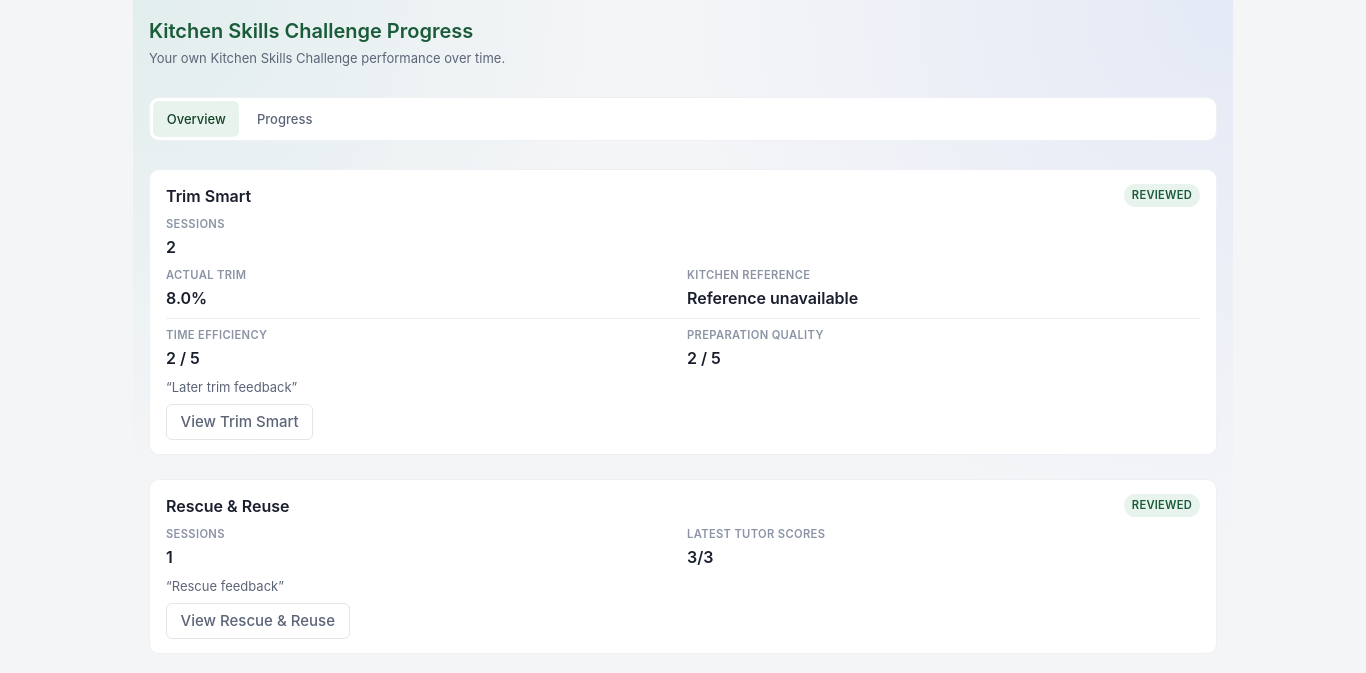
Test: Kitchen Day page split › keeps module tutor assessments and charts isolated under Progress tabs
Click the tab with test id "kitchen-day-progress-tab-progress". click: (285, 119)
box: [243,101,326,137]
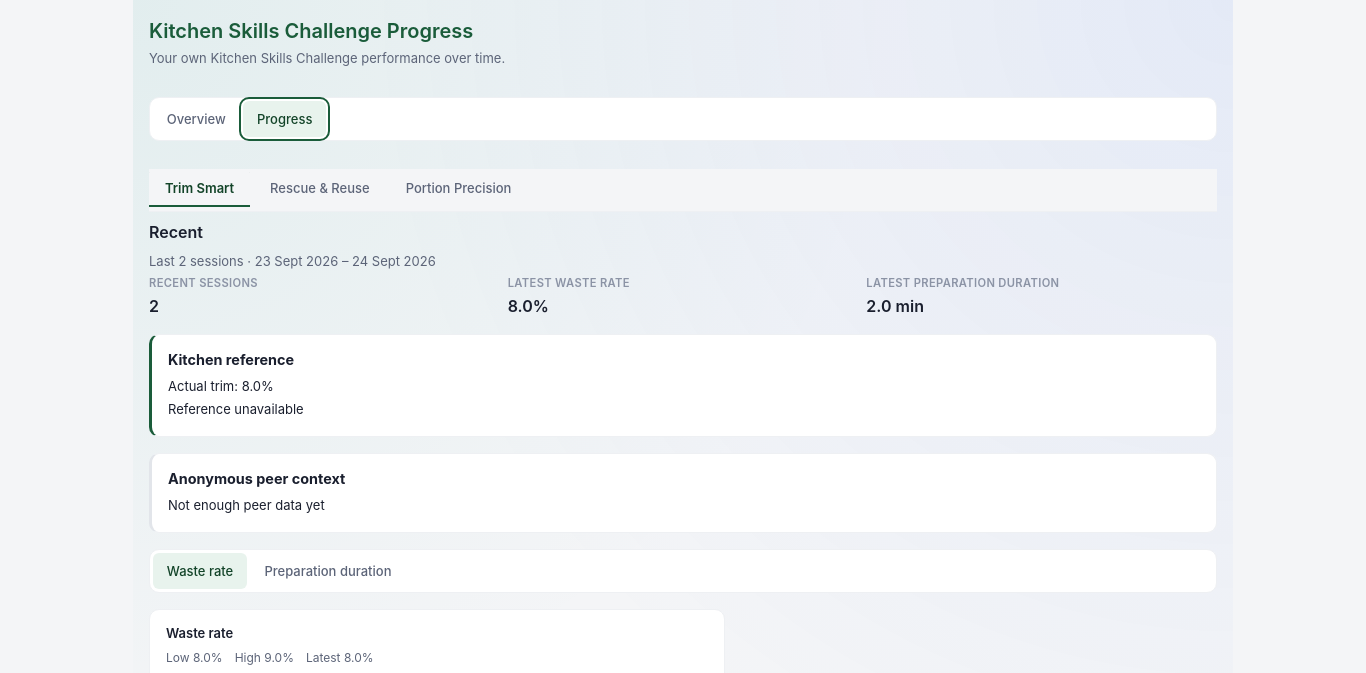
Result: the text with test id "kitchen-day-progress-recent-label-trimSmart" reads "Last 2 sessions · 23 Sept 2026 – 24 Sept 2026" at [149,253,436,269]
Click the tab with test id "kitchen-day-progress-module-tab-rescueAndReuse". click: (320, 188)
box: [254,169,386,207]
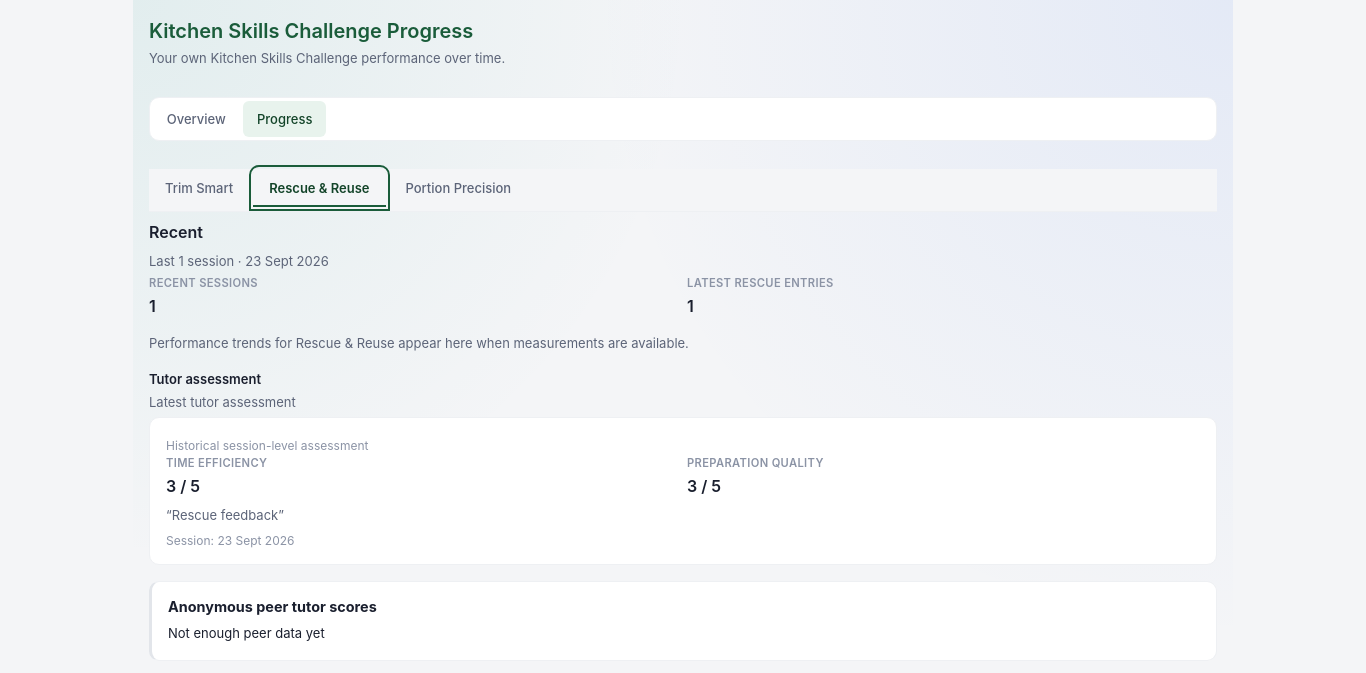
Result: the text with test id "kitchen-day-progress-tutor-rescueAndReuse-feedback" shows "Rescue feedback" at [172,507,278,523]
Click the tab with test id "kitchen-day-progress-module-tab-portionPrecision". click: (458, 188)
box: [390,169,527,207]
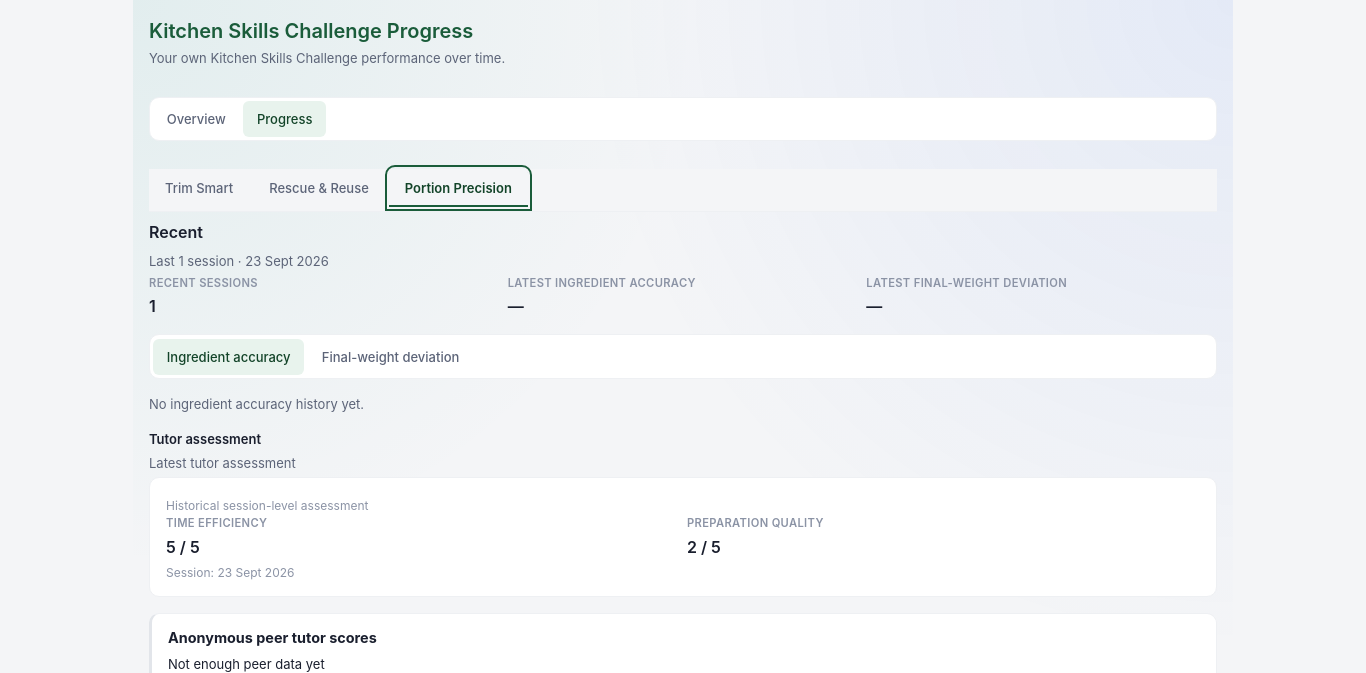
Result: the text with test id "kitchen-day-progress-tutor-portionPrecision-time" reads "5 / 5" at [166,537,200,557]
Result: the text with test id "kitchen-day-progress-tutor-portionPrecision-quality" reads "2 / 5" at [687,537,721,557]
Result: the text "Rescue feedback" is gone
